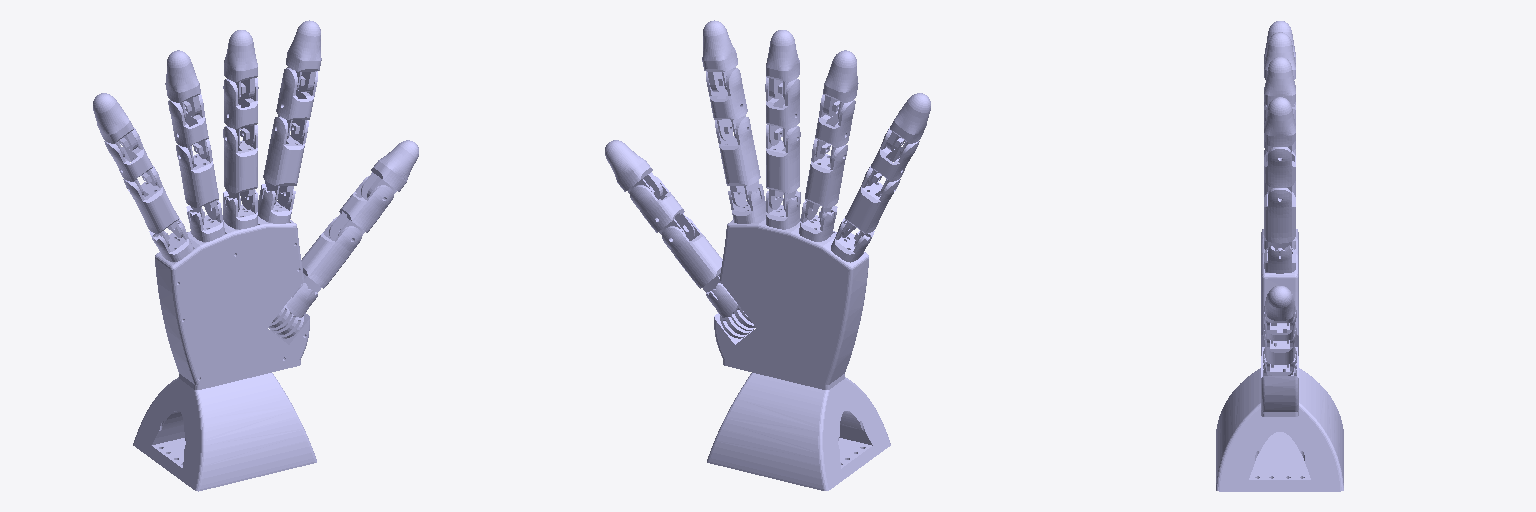
URDF robot description (right_hand_f):
<?xml version='1.0' encoding='utf-8'?>
<robot name="right_hand_f">
  <link name="rh_palm">
    <inertial>
      <origin xyz="-0.00801208012077096 -0.00987777248601335 -0.0353349889681759" rpy="0 0 0" />
      <mass value="0.163575711852191" />
      <inertia ixx="9.42349809785338E-05" ixy="3.89590598775861E-07" ixz="2.64237964426831E-06" iyy="0.000113076413394696" iyz="-6.34299712791956E-07" izz="0.000104094357508257" />
    </inertial>
    <visual>
      <origin xyz="0 0 0" rpy="0 0 0" />
      <geometry>
        <mesh filename="meshes/base_link.STL" />
      </geometry>
      <material name="">
        <color rgba="0.823529411764706 0.823529411764706 1 1" />
      </material>
    </visual>
    <collision>
      <origin xyz="0 0 0" rpy="0 0 0" />
      <geometry>
        <mesh filename="meshes/base_link.STL" />
      </geometry>
    </collision>
  </link>
  <link name="rh_ffproximal">
    <inertial>
      <origin xyz="-0.0195256107357361 -4.14618336538886E-09 0.00555427641438734" rpy="0 0 0" />
      <mass value="0.00677364247310552" />
      <inertia ixx="2.83710279737645E-07" ixy="6.76026303813051E-13" ixz="-2.05368751935651E-09" iyy="8.45167241239587E-07" iyz="2.26910708206396E-12" izz="8.30978468369797E-07" />
    </inertial>
    <visual>
      <origin xyz="0 0 0" rpy="0 0 0" />
      <geometry>
        <mesh filename="meshes/link1.1.STL" />
      </geometry>
      <material name="">
        <color rgba="0.823529411764706 0.823529411764706 1 1" />
      </material>
    </visual>
    <collision>
      <origin xyz="0 0 0" rpy="0 0 0" />
      <geometry>
        <mesh filename="meshes/link1.1.STL" />
      </geometry>
    </collision>
  </link>
  <joint name="rh_FFJ3" type="revolute">
    <origin xyz="-0.049344 -0.0099 0.056068" rpy="0 1.1345 0" />
    <parent link="rh_palm" />
    <child link="rh_ffproximal" />
    <axis xyz="0 0 1" />
    <limit lower="-1.570796326790" upper="0.261799387799" effort="100" velocity="100" />
  </joint>
  <link name="rh_ffmiddle">
    <inertial>
      <origin xyz="-0.0160035085162165 -9.52427303902575E-07 0.00600478978269169" rpy="0 0 0" />
      <mass value="0.00324240874433465" />
      <inertia ixx="1.57546044489316E-07" ixy="7.45726227520205E-12" ixz="-5.80694400135662E-09" iyy="3.35115639156244E-07" iyz="9.53860732763353E-13" izz="2.9517784978528E-07" />
    </inertial>
    <visual>
      <origin xyz="0 0 0" rpy="0 0 0" />
      <geometry>
        <mesh filename="meshes/link1.2.STL" />
      </geometry>
      <material name="">
        <color rgba="0.823529411764706 0.823529411764706 1 1" />
      </material>
    </visual>
    <collision>
      <origin xyz="0 0 0" rpy="0 0 0" />
      <geometry>
        <mesh filename="meshes/link1.2.STL" />
      </geometry>
    </collision>
  </link>
  <joint name="rh_FFJ2" type="revolute">
    <origin xyz="-0.0375 0 0" rpy="0 0 0" />
    <parent link="rh_ffproximal" />
    <child link="rh_ffmiddle" />
    <axis xyz="0 0 -1" />
    <limit lower="-1.570796326790" upper="0.000000000000" effort="100" velocity="100" />
  </joint>
  <link name="rh_ffdistal">
    <inertial>
      <origin xyz="-0.0154535309252463 -4.50415103023932E-07 -0.00570987888422035" rpy="0 0 0" />
      <mass value="0.00529857877771826" />
      <inertia ixx="1.624596970088E-07" ixy="7.15171430730002E-12" ixz="1.59312041579397E-08" iyy="4.7783808256668E-07" iyz="-3.32514969211753E-12" izz="4.84004677102988E-07" />
    </inertial>
    <visual>
      <origin xyz="0 0 0" rpy="0 0 0" />
      <geometry>
        <mesh filename="meshes/link1.3.STL" />
      </geometry>
      <material name="">
        <color rgba="0.823529411764706 0.823529411764706 1 1" />
      </material>
    </visual>
    <collision>
      <origin xyz="0 0 0" rpy="0 0 0" />
      <geometry>
        <mesh filename="meshes/link1.3.STL" />
      </geometry>
    </collision>
  </link>
  <joint name="rh_FFJ1" type="revolute">
    <origin xyz="-0.0275 0 0" rpy="3.1416 0 0" />
    <parent link="rh_ffmiddle" />
    <child link="rh_ffdistal" />
    <axis xyz="0 0 1" />
    <limit lower="-1.570796326790" upper="0.000000000000" effort="100" velocity="100" />
  </joint>
  <link name="rh_mfproximal">
    <inertial>
      <origin xyz="-0.0195256089055077 -8.32951580972963E-10 0.00555427680913779" rpy="0 0 0" />
      <mass value="0.00677364542683526" />
      <inertia ixx="2.83710365714741E-07" ixy="5.50773330283649E-13" ixz="-2.05368086614989E-09" iyy="8.45167175055977E-07" iyz="2.15467367901247E-12" izz="8.30978598563989E-07" />
    </inertial>
    <visual>
      <origin xyz="0 0 0" rpy="0 0 0" />
      <geometry>
        <mesh filename="meshes/link2.1.STL" />
      </geometry>
      <material name="">
        <color rgba="0.823529411764706 0.823529411764706 1 1" />
      </material>
    </visual>
    <collision>
      <origin xyz="0 0 0" rpy="0 0 0" />
      <geometry>
        <mesh filename="meshes/link2.1.STL" />
      </geometry>
    </collision>
  </link>
  <joint name="rh_MFJ3" type="revolute">
    <origin xyz="-0.027527 -0.0099 0.064462" rpy="0 1.3989 0" />
    <parent link="rh_palm" />
    <child link="rh_mfproximal" />
    <axis xyz="0 0 1" />
    <limit lower="-1.570796326790" upper="0.261799387799" effort="100" velocity="100" />
  </joint>
  <link name="rh_mfmiddle">
    <inertial>
      <origin xyz="-0.0160034854677434 -9.53915548182124E-07 0.00600479707584552" rpy="0 0 0" />
      <mass value="0.00324240601749207" />
      <inertia ixx="1.57545650165867E-07" ixy="7.38370074900789E-12" ixz="-5.80641709554685E-09" iyy="3.35115035385114E-07" iyz="8.35041737758821E-13" izz="2.95177275319793E-07" />
    </inertial>
    <visual>
      <origin xyz="0 0 0" rpy="0 0 0" />
      <geometry>
        <mesh filename="meshes/link2.2.STL" />
      </geometry>
      <material name="">
        <color rgba="0.823529411764706 0.823529411764706 1 1" />
      </material>
    </visual>
    <collision>
      <origin xyz="0 0 0" rpy="0 0 0" />
      <geometry>
        <mesh filename="meshes/link2.2.STL" />
      </geometry>
    </collision>
  </link>
  <joint name="rh_MFJ2" type="revolute">
    <origin xyz="-0.0375 0 0" rpy="0 0 0" />
    <parent link="rh_mfproximal" />
    <child link="rh_mfmiddle" />
    <axis xyz="0 0 1" />
    <limit lower="-1.570796326790" upper="0.000000000000" effort="100" velocity="100" />
  </joint>
  <link name="rh_mfdistal">
    <inertial>
      <origin xyz="-0.0154535296153524 -4.48226047489869E-07 -0.00570988343301127" rpy="0 0 0" />
      <mass value="0.00529858100427292" />
      <inertia ixx="1.62459776991565E-07" ixy="7.16602837903248E-12" ixz="1.59310245219162E-08" iyy="4.77838068432803E-07" iyz="-3.41377712862285E-12" izz="4.84004760626084E-07" />
    </inertial>
    <visual>
      <origin xyz="0 0 0" rpy="0 0 0" />
      <geometry>
        <mesh filename="meshes/link2.3.STL" />
      </geometry>
      <material name="">
        <color rgba="0.823529411764706 0.823529411764706 1 1" />
      </material>
    </visual>
    <collision>
      <origin xyz="0 0 0" rpy="0 0 0" />0.261799" upper="1.5708"
      <geometry>
        <mesh filename="meshes/link2.3.STL" />
      </geometry>
    </collision>
  </link>
  <joint name="rh_MFJ1" type="revolute">
    <origin xyz="-0.0275 0 0" rpy="3.1416 0 0" />
    <parent link="rh_mfmiddle" />
    <child link="rh_mfdistal" />
    <axis xyz="0 0 1" />
    <limit lower="-1.570796326790" upper="0.000000000000" effort="100" velocity="100" />
  </joint>
  <link name="rh_rfproximal">
    <inertial>
      <origin xyz="-0.0195256023827712 3.79718420942532E-09 0.00555426727824177" rpy="0 0 0" />
      <mass value="0.00677364781232352" />
      <inertia ixx="2.837103126467E-07" ixy="4.51488998687551E-13" ixz="-2.05359184851325E-09" iyy="8.45167031933762E-07" iyz="2.15324866602347E-12" izz="8.30978645316731E-07" />
    </inertial>
    <visual>
      <origin xyz="0 0 0" rpy="0 0 0" />
      <geometry>
        <mesh filename="meshes/link3.1.STL" />
      </geometry>
      <material name="">
        <color rgba="0.823529411764706 0.823529411764706 1 1" />
      </material>
    </visual>
    <collision>
      <origin xyz="0 0 0" rpy="0 0 0" />
      <geometry>
        <mesh filename="meshes/link3.1.STL" />
      </geometry>
    </collision>
  </link>
  <joint name="rh_RFJ3" type="revolute">
    <origin xyz="-0.005458 -0.0099 0.067348" rpy="-3.1416 1.5681 -3.1416" />
    <parent link="rh_palm" />
    <child link="rh_rfproximal" />
    <axis xyz="0 0 1" />
    <limit lower="-1.570796326790" upper="0.261799387799" effort="100" velocity="100" />
  </joint>
  <link name="rh_rfmiddle">
    <inertial>
      <origin xyz="-0.0160040263963237 -9.36770797271488E-07 0.00600470451020379" rpy="0 0 0" />
      <mass value="0.00324244064669766" />
      <inertia ixx="1.57545143459519E-07" ixy="6.93310664086412E-12" ixz="-5.8204372784436E-09" iyy="3.35158634296591E-07" iyz="5.6978436719684E-13" izz="2.95214362745721E-07" />
    </inertial>
    <visual>
      <origin xyz="0 0 0" rpy="0 0 0" />
      <geometry>
        <mesh filename="meshes/link3.2.STL" />
      </geometry>
      <material name="">
        <color rgba="0.823529411764706 0.823529411764706 1 1" />
      </material>
    </visual>
    <collision>
      <origin xyz="0 0 0" rpy="0 0 0" />
      <geometry>
        <mesh filename="meshes/link3.2.STL" />
      </geometry>
    </collision>
  </link>
  <joint name="rh_RFJ2" type="revolute">
    <origin xyz="-0.0375 0 0" rpy="0 0 0" />
    <parent link="rh_rfproximal" />
    <child link="rh_rfmiddle" />
    <axis xyz="0 0 -1" />
    <limit lower="-1.570796326790" upper="0.000000000000" effort="100" velocity="100" />
  </joint>
  <link name="rh_rfdistal">
    <inertial>
      <origin xyz="-0.0154535290809652 -4.47604169872759E-07 -0.00570988466939374" rpy="0 0 0" />
      <mass value="0.0052985823368308" />
      <inertia ixx="1.62459827990313E-07" ixy="7.16679968410515E-12" ixz="1.59309707373075E-08" iyy="4.7783806891583E-07" iyz="-3.44435826138379E-12" izz="4.8400481812546E-07" />
    </inertial>
    <visual>
      <origin xyz="0 0 0" rpy="0 0 0" />
      <geometry>
        <mesh filename="meshes/link3.3.STL" />
      </geometry>
      <material name="">
        <color rgba="0.823529411764706 0.823529411764706 1 1" />
      </material>
    </visual>
    <collision>
      <origin xyz="0 0 0" rpy="0 0 0" />
      <geometry>
        <mesh filename="meshes/link3.3.STL" />
      </geometry>
    </collision>
  </link>
  <joint name="rh_RFJ1" type="revolute">
    <origin xyz="-0.0275 0 0" rpy="3.1416 0 0" />
    <parent link="rh_rfmiddle" />
    <child link="rh_rfdistal" />
    <axis xyz="0 0 1" />
    <limit lower="-1.570796326790" upper="0.000000000000" effort="100" velocity="100" />
  </joint>
  <link name="rh_lfproximal">
    <inertial>
      <origin xyz="-0.0195256372959451 1.94639777455208E-08 0.00555423328271399" rpy="0 0 0" />
      <mass value="0.00677367505247576" />
      <inertia ixx="2.83711398426296E-07" ixy="8.66405671390565E-13" ixz="-2.05530000281344E-09" iyy="8.45170431252684E-07" iyz="2.63569355801064E-12" izz="8.30981238158261E-07" />
    </inertial>
    <visual>
      <origin xyz="0 0 0" rpy="0 0 0" />
      <geometry>
        <mesh filename="meshes/link4.1.STL" />
      </geometry>
      <material name="">
        <color rgba="0.823529411764706 0.823529411764706 1 1" />
      </material>
    </visual>
    <collision>
      <origin xyz="0 0 0" rpy="0 0 0" />
      <geometry>
        <mesh filename="meshes/link4.1.STL" />
      </geometry>
    </collision>
  </link>
  <joint name="rh_LFJ3" type="revolute">
    <origin xyz="0.017201 -0.0099 0.066114" rpy="-3.1416 1.3587 -3.1416" />
    <parent link="rh_palm" />
    <child link="rh_lfproximal" />
    <axis xyz="0 0 1" />
    <limit lower="-1.570796326790" upper="0.261799387799" effort="100" velocity="100" />
  </joint>
  <link name="rh_lfmiddle">
    <inertial>
      <origin xyz="-0.0160040370107232 -9.22150456999712E-07 0.00600472226208129" rpy="0 0 0" />
      <mass value="0.00324244182122049" />
      <inertia ixx="1.57545286736104E-07" ixy="6.71815212274347E-12" ixz="-5.81989788583145E-09" iyy="3.35158955049965E-07" iyz="5.53374714636022E-13" izz="2.95214592386481E-07" />
    </inertial>
    <visual>
      <origin xyz="0 0 0" rpy="0 0 0" />
      <geometry>
        <mesh filename="meshes/link4.2.STL" />
      </geometry>
      <material name="">
        <color rgba="0.823529411764706 0.823529411764706 1 1" />
      </material>
    </visual>
    <collision>
      <origin xyz="0 0 0" rpy="0 0 0" />
      <geometry>
        <mesh filename="meshes/link4.2.STL" />
      </geometry>
    </collision>
  </link>
  <joint name="rh_LFJ2" type="revolute">
    <origin xyz="-0.0375 0 0" rpy="0 0 0" />
    <parent link="rh_lfproximal" />
    <child link="rh_lfmiddle" />
    <axis xyz="0 0 -1" />
    <limit lower="-1.570796326790" upper="0.000000000000" effort="100" velocity="100" />
  </joint>
  <link name="rh_lfdistal">
    <inertial>
      <origin xyz="-0.0154535286397291 -4.45417674202475E-07 -0.00570988976870921" rpy="0 0 0" />
      <mass value="0.00529857938896386" />
      <inertia ixx="1.62459720981638E-07" ixy="7.20018631881646E-12" ixz="1.59308253187669E-08" iyy="4.77838051829638E-07" iyz="-3.48776024934961E-12" izz="4.84004660296523E-07" />
    </inertial>
    <visual>
      <origin xyz="0 0 0" rpy="0 0 0" />
      <geometry>
        <mesh filename="meshes/link4.3.STL" />
      </geometry>
      <material name="">
        <color rgba="0.823529411764706 0.823529411764706 1 1" />
      </material>
    </visual>
    <collision>
      <origin xyz="0 0 0" rpy="0 0 0" />
      <geometry>
        <mesh filename="meshes/link4.3.STL" />
      </geometry>
    </collision>
  </link>
  <joint name="rh_LFJ1" type="revolute">
    <origin xyz="-0.0275 0 0" rpy="3.1416 0 0" />
    <parent link="rh_lfmiddle" />
    <child link="rh_lfdistal" />
    <axis xyz="0 0 1" />
    <limit lower="-1.570796326790" upper="0.000000000000" effort="100" velocity="100" />
  </joint>
  <link name="rh_thbase">
    <inertial>
      <origin xyz="-0.00383905399743779 0.0198501489852373 6.91481170933539E-10" rpy="0 0 0" />
      <mass value="0.00391327185390835" />
      <inertia ixx="1.9415764778211E-07" ixy="-2.54499175104879E-09" ixz="3.86204767860692E-14" iyy="2.68799852231953E-07" iyz="-5.78969418090828E-13" izz="2.69470799925421E-07" />
    </inertial>
    <visual>
      <origin xyz="0 0 0" rpy="0 0 0" />
      <geometry>
        <mesh filename="meshes/link5.1.STL" />
      </geometry>
      <material name="">
        <color rgba="0.823529411764706 0.823529411764706 1 1" />
      </material>
    </visual>
    <collision>
      <origin xyz="0 0 0" rpy="0 0 0" />
      <geometry>
        <mesh filename="meshes/link5.1.STL" />
      </geometry>
    </collision>
  </link>
  <joint name="rh_THJ4" type="revolute">
    <origin xyz="0.010642 -0.01 0.0075717" rpy="-1.5708 0.7854 -3.1416" />
    <parent link="rh_palm" />
    <child link="rh_thbase" />
    <axis xyz="0 -1 0" />
    <limit lower="-1.221730476400" upper="0.000000000000" effort="100" velocity="100" />
  </joint>
  <link name="rh_thproximal">
    <inertial>
      <origin xyz="-0.0195256395714312 1.16543475078834E-08 0.00555424150854731" rpy="0 0 0" />
      <mass value="0.00677367001215042" />
      <inertia ixx="2.83711595327698E-07" ixy="1.03256913018362E-12" ixz="-2.05529443656837E-09" iyy="8.45170453799356E-07" iyz="2.53207820496177E-12" izz="8.30981342961788E-07" />
    </inertial>
    <visual>
      <origin xyz="0 0 0" rpy="0 0 0" />
      <geometry>
        <mesh filename="meshes/link5.2.STL" />
      </geometry>
      <material name="">
        <color rgba="0.823529411764706 0.823529411764706 1 1" />
      </material>
    </visual>
    <collision>
      <origin xyz="0 0 0" rpy="0 0 0" />
      <geometry>
        <mesh filename="meshes/link5.2.STL" />
      </geometry>
    </collision>
  </link>
  <joint name="rh_THJ3" type="revolute">
    <origin xyz="-0.017402 0.0197 -0.0055" rpy="0 0 0" />
    <parent link="rh_thbase" />
    <child link="rh_thproximal" />
    <axis xyz="0 0 1" />
    <limit lower="-0.209439510239" upper="0.209439510239" effort="100" velocity="100" />
  </joint>
  <link name="rh_thmiddle">
    <inertial>
      <origin xyz="-0.0160040408742629 -9.31992772016527E-07 0.00600470149703588" rpy="0 0 0" />
      <mass value="0.00324244166103984" />
      <inertia ixx="1.57545731539634E-07" ixy="7.12846351969147E-12" ixz="-5.82069943645444E-09" iyy="3.35158816868153E-07" iyz="7.98796699706797E-13" izz="2.95214701791576E-07" />
    </inertial>
    <visual>
      <origin xyz="0 0 0" rpy="0 0 0" />
      <geometry>
        <mesh filename="meshes/link5.3.STL" />
      </geometry>
      <material name="">
        <color rgba="0.823529411764706 0.823529411764706 1 1" />
      </material>
    </visual>
    <collision>
      <origin xyz="0 0 0" rpy="0 0 0" />
      <geometry>
        <mesh filename="meshes/link5.3.STL" />
      </geometry>
    </collision>
  </link>
  <joint name="rh_THJ2" type="revolute">
    <origin xyz="-0.0375 0 0" rpy="0 0 0" />
    <parent link="rh_thproximal" />
    <child link="rh_thmiddle" />
    <axis xyz="0 0 -1" />
    <limit lower="-0.698131700798" upper="0.698131700798" effort="100" velocity="100" />
  </joint>
  <link name="rh_thdistal">
    <inertial>
      <origin xyz="-0.015453530095652 -4.4762840862092E-07 -0.00570988538292098" rpy="0 0 0" />
      <mass value="0.00529857483809424" />
      <inertia ixx="1.62459540988264E-07" ixy="7.19636744194909E-12" ixz="1.59310147320564E-08" iyy="4.77838048930043E-07" iyz="-3.38187250445414E-12" izz="4.8400446871867E-07" />
    </inertial>
    <visual>
      <origin xyz="0 0 0" rpy="0 0 0" />
      <geometry>
        <mesh filename="meshes/link5.4.STL" />
      </geometry>
      <material name="">
        <color rgba="0.823529411764706 0.823529411764706 1 1" />
      </material>
    </visual>
    <collision>
      <origin xyz="0 0 0" rpy="0 0 0" />
      <geometry>
        <mesh filename="meshes/link5.4.STL" />
      </geometry>
    </collision>
  </link>
  <joint name="rh_THJ1" type="revolute">
    <origin xyz="-0.0275 0 0" rpy="3.1416 0 0" />
    <parent link="rh_thmiddle" />
    <child link="rh_thdistal" />
    <axis xyz="0 0 1" />
    <limit lower="-1.570796326790" upper="0.261799387799" effort="100" velocity="100" />
  </joint>
</robot>

--- Render facts (derived) ---
The picture shows the robot from 3 angles, left to right: view 1: azimuth 30°, elevation 25°; view 2: azimuth 150°, elevation 25°; view 3: azimuth 270°, elevation 25°; orthographic projection.
Model right_hand_f with 17 links and 16 joints (16 revolute), rooted at rh_palm, posed all joints at 0.
Links seen in each view (by area): view 1: rh_palm, rh_lfproximal, rh_rfproximal, rh_thproximal, rh_mfproximal, rh_ffproximal, rh_thmiddle, rh_lfdistal, rh_thdistal, rh_rfdistal, rh_lfmiddle, rh_mfdistal (+5 smaller); view 2: rh_palm, rh_lfproximal, rh_thproximal, rh_rfproximal, rh_mfproximal, rh_ffproximal, rh_thmiddle, rh_lfdistal, rh_thdistal, rh_rfdistal, rh_lfmiddle, rh_mfdistal (+5 smaller); view 3: rh_palm, rh_lfproximal, rh_lfdistal, rh_lfmiddle, rh_rfdistal, rh_thdistal, rh_thproximal, rh_mfdistal.
Boxes of the visible links, <box> form: rh_palm: <box>133,184,316,491</box>; rh_lfproximal: <box>263,116,308,206</box>; rh_rfproximal: <box>223,125,257,211</box>; rh_thproximal: <box>302,217,361,298</box>; rh_mfproximal: <box>176,139,218,224</box>; rh_ffproximal: <box>123,166,182,246</box>; rh_thmiddle: <box>329,176,393,240</box>; rh_lfdistal: <box>286,20,321,91</box>; rh_thdistal: <box>361,140,418,199</box>; rh_rfdistal: <box>224,30,257,100</box>; rh_lfmiddle: <box>276,68,317,140</box>; rh_mfdistal: <box>165,50,200,119</box>; rh_palm: <box>707,184,890,490</box>; rh_lfproximal: <box>715,117,760,206</box>; rh_thproximal: <box>662,217,722,298</box>; rh_rfproximal: <box>766,125,800,211</box>; rh_mfproximal: <box>805,139,847,224</box>; rh_ffproximal: <box>841,166,900,246</box>; rh_thmiddle: <box>630,176,694,240</box>; rh_lfdistal: <box>702,20,737,91</box>; rh_thdistal: <box>605,140,662,199</box>; rh_rfdistal: <box>766,30,799,99</box>; rh_lfmiddle: <box>706,68,747,140</box>; rh_mfdistal: <box>823,50,858,119</box>; rh_palm: <box>1216,229,1343,491</box>; rh_lfproximal: <box>1264,188,1295,255</box>; rh_lfdistal: <box>1264,97,1295,157</box>; rh_lfmiddle: <box>1264,147,1295,198</box>; rh_rfdistal: <box>1264,57,1295,106</box>; rh_thdistal: <box>1264,286,1295,325</box>; rh_thproximal: <box>1263,323,1296,367</box>; rh_mfdistal: <box>1264,32,1295,79</box>.
Bounding box of the posed robot: 0.1979 × 0.069 × 0.245 m (x, y, z).
Meshes: 17 distinct files referenced, 17 mesh visuals loaded (17 binary STL).
